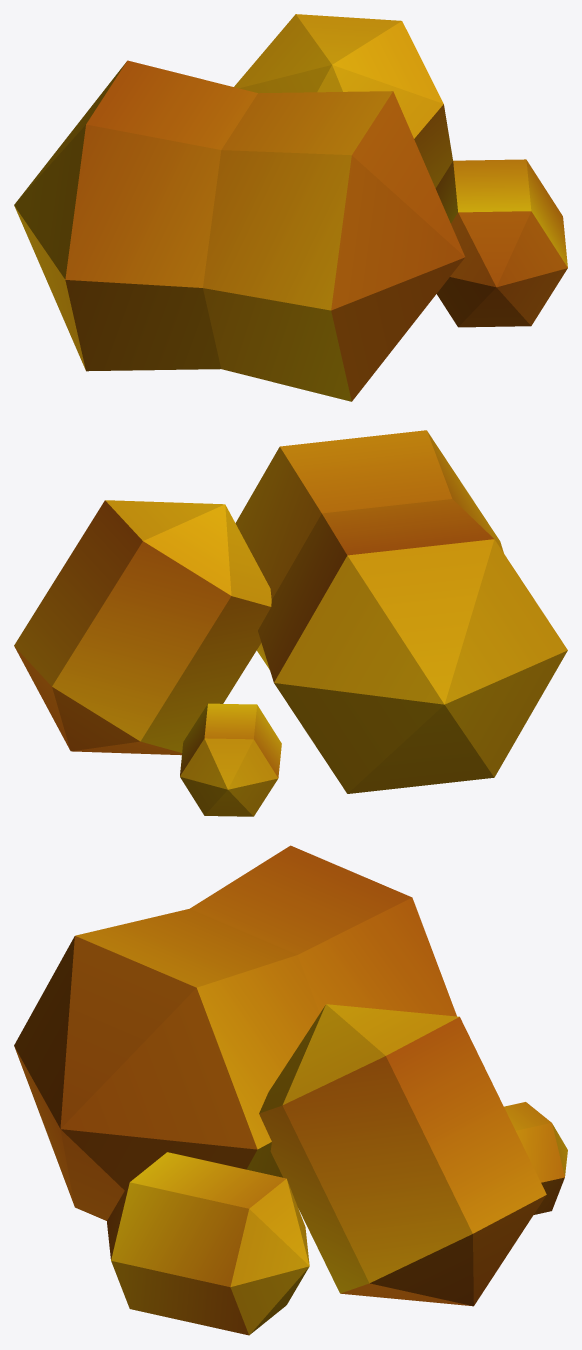
The model's file is Topaz_04.glb.
The picture shows the model from 3 angles, top to bottom: view 1: azimuth 30°, elevation 25°; view 2: azimuth 150°, elevation 25°; view 3: azimuth 270°, elevation 25°; orthographic projection. The views are drawn at different scales.
Visible parts, largest first — view 1: Topaz_04; view 2: Topaz_04; view 3: Topaz_04.
Part boxes in pixels (x1,y1,x2,y2): Topaz_04: (14, 14, 567, 401); Topaz_04: (14, 430, 567, 816); Topaz_04: (14, 845, 567, 1335).
Size of the model in its own units: 0.4959 by 0.2347 by 0.4337.
Materials: 1 (1 with a texture image).
